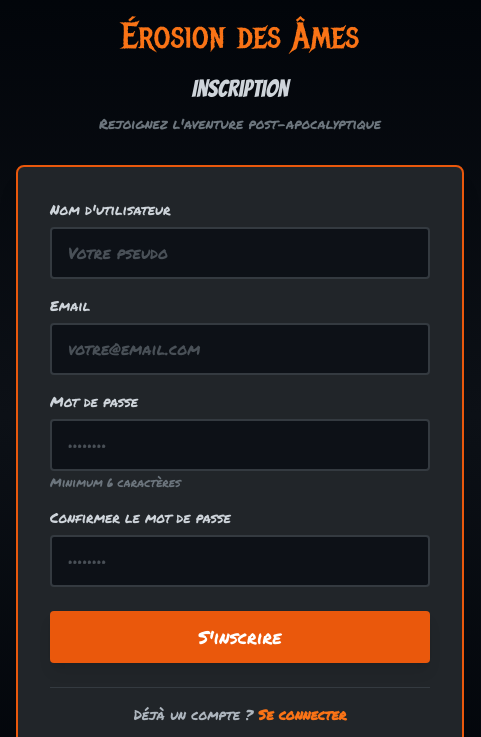
Test: Register › should display error message for 409 conflict (username taken)
Type "existinguser" into the field labelled "Nom d'utilisateur" at (240, 253), box [50,227,430,279]
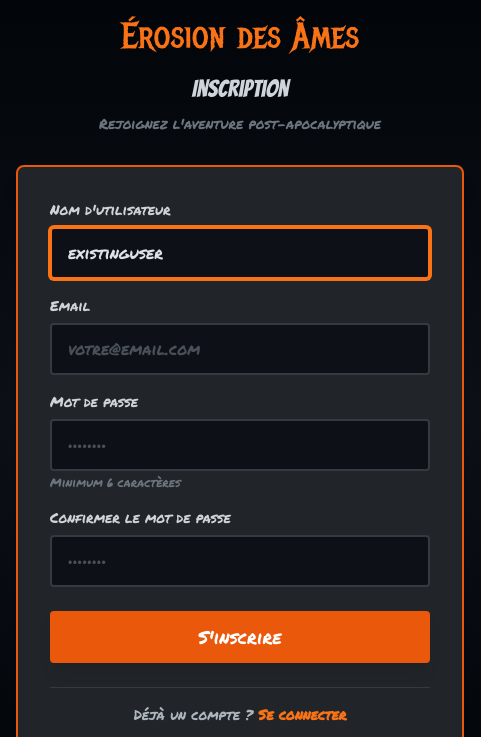
Type "test@test.com" into the field labelled "Email" at (240, 349), box [50,323,430,375]
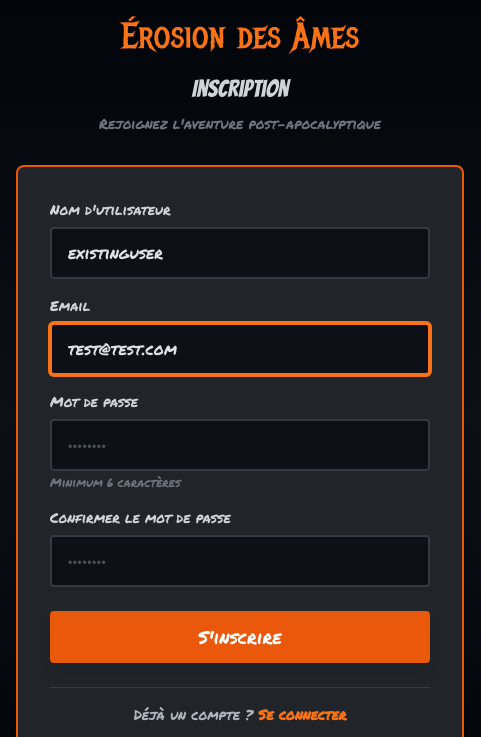
Type "password123" into the password field labelled "Mot de passe" at (240, 445), box [50,419,430,471]
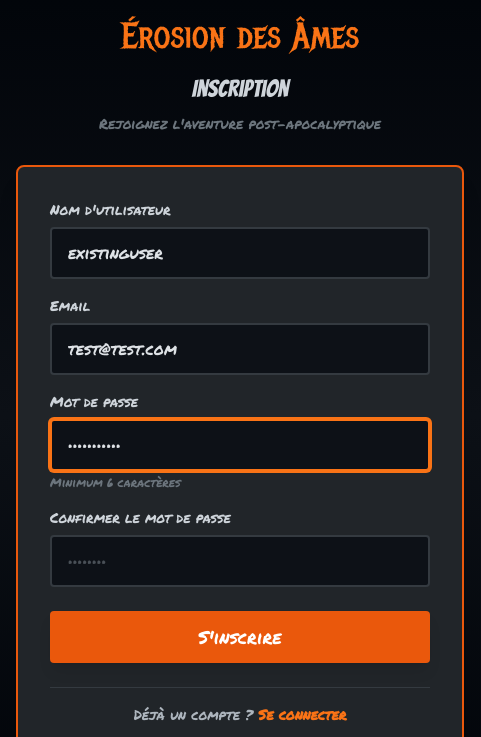
Type "password123" into the password field labelled "Confirmer le mot de passe" at (240, 561), box [50,535,430,587]
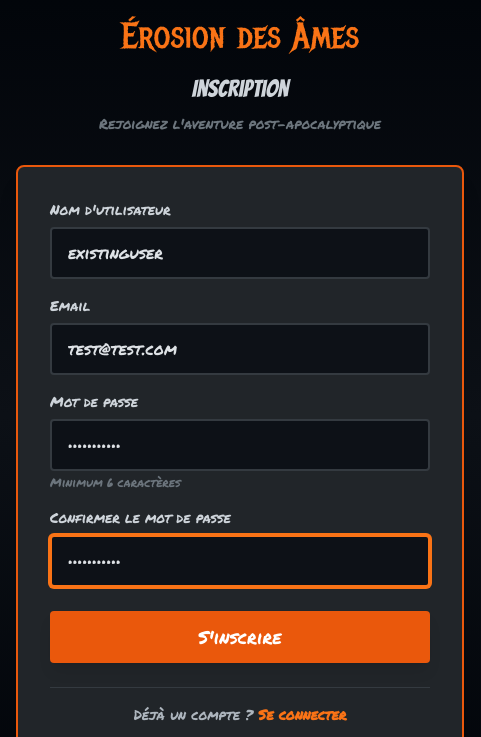
Click the button "S'inscrire" at (240, 637), box [50,611,430,663]
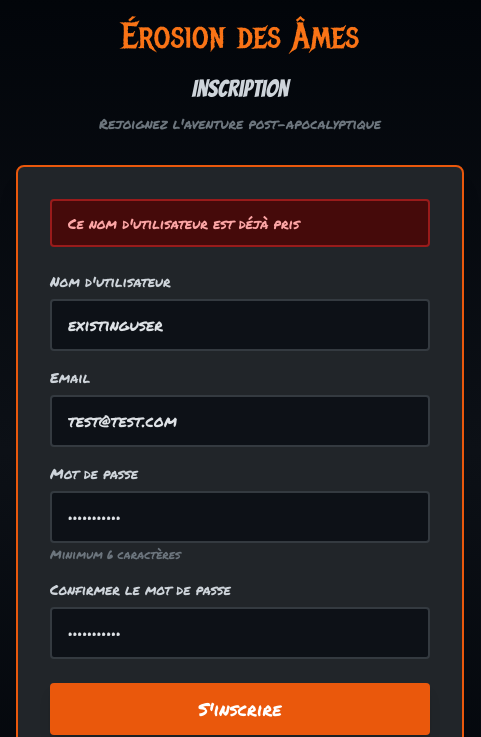
Result: the text "Ce nom d'utilisateur est déjà pris" is shown at [50,199,430,247]
